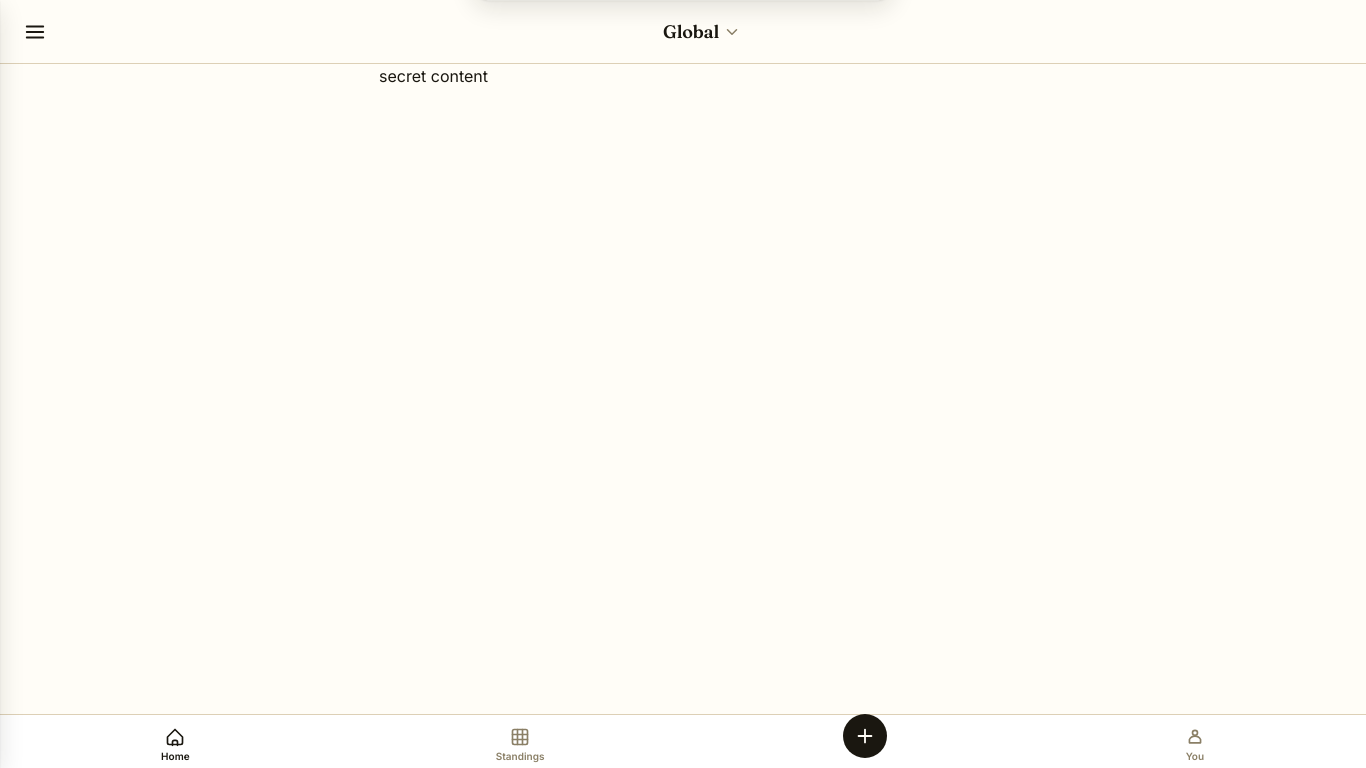
Scenario: AppShell › opens the ManageGroup overlay from the overflow menu when an admin group is selected
The image size is (1366, 768).
Expected: the text "secret content" is shown, [379,66,488,86]
Note: Select the admin group from the board switcher.
Click the button "Global": coordinates (702, 32) [655,12,749,51]
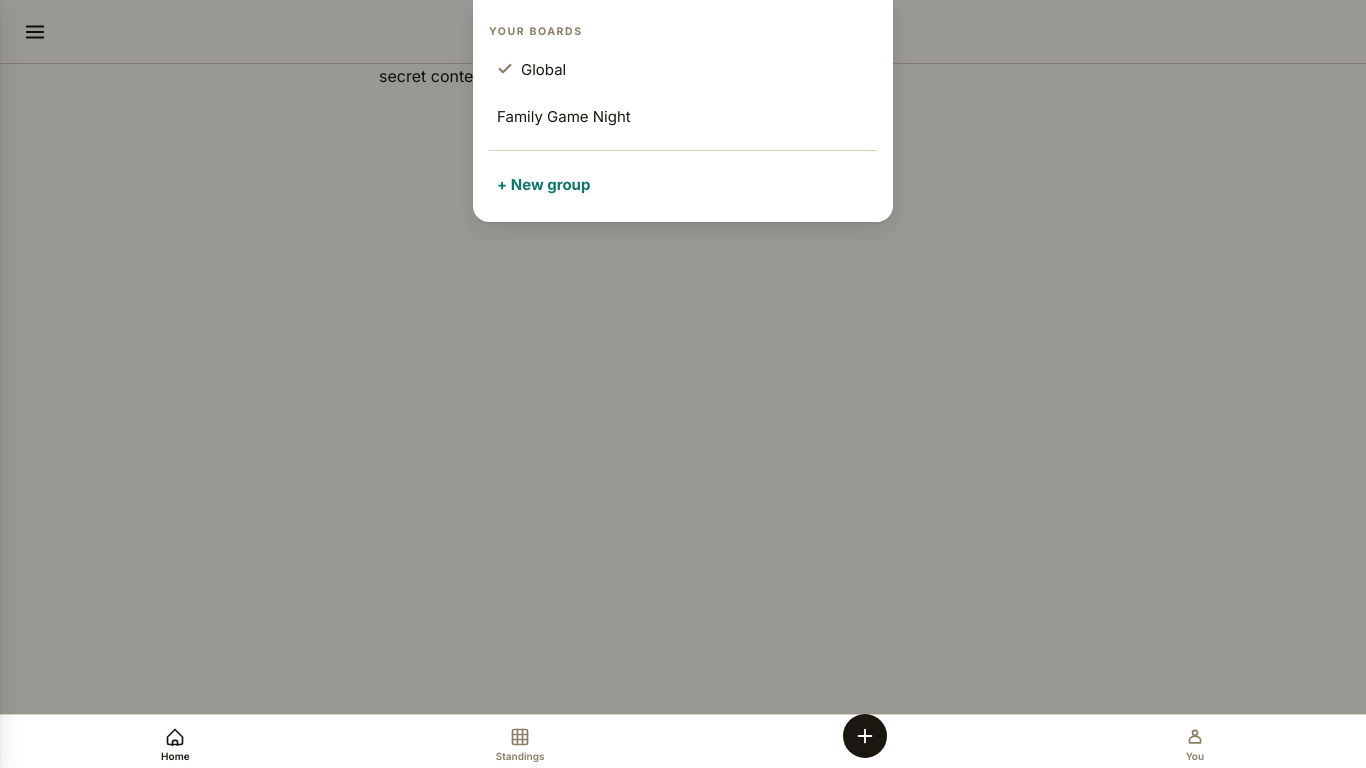
Click the button "Family Game Night": coordinates (564, 116) [489,95,877,138]
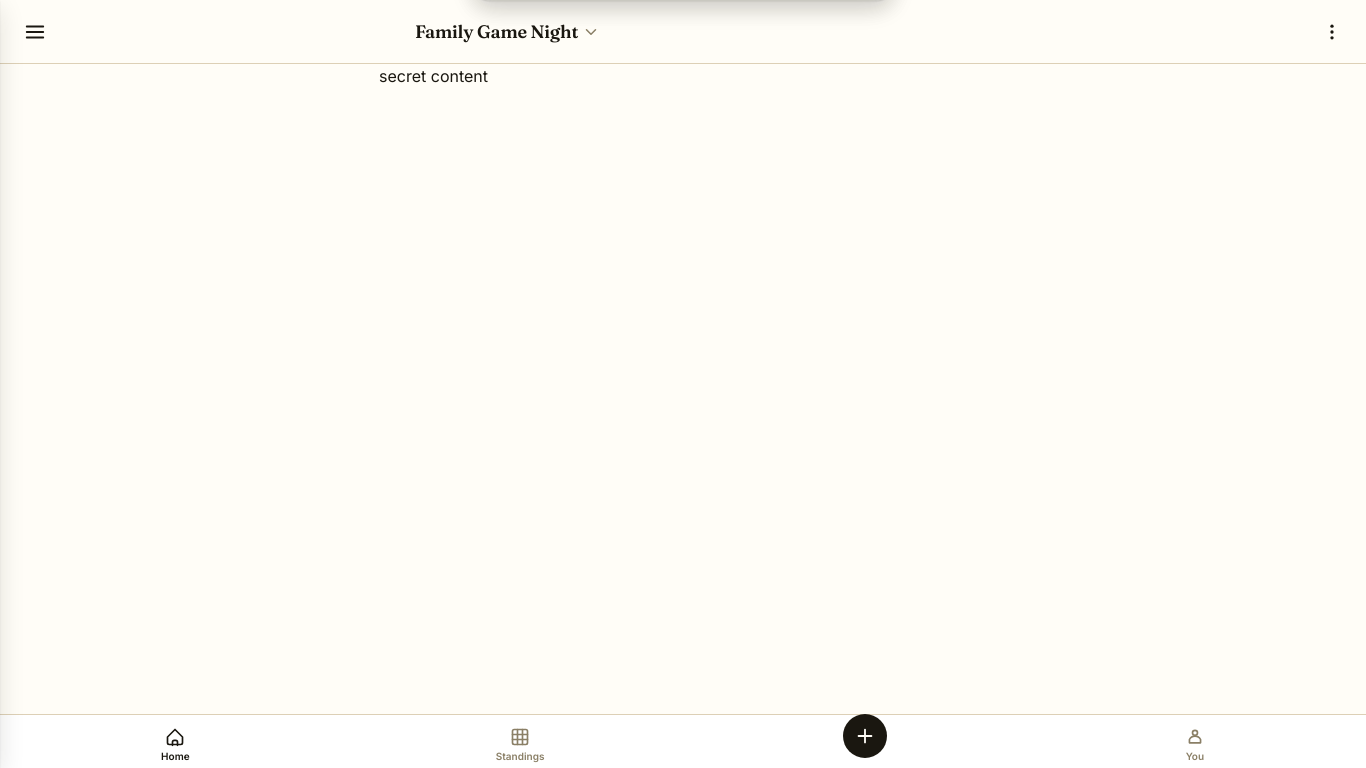
Expected: the button "Family Game Night" is shown, [407,12,608,51]
Note: Open the overflow menu and choose Manage.
Click the button named "group options": coordinates (1332, 32) [1314,14,1350,50]
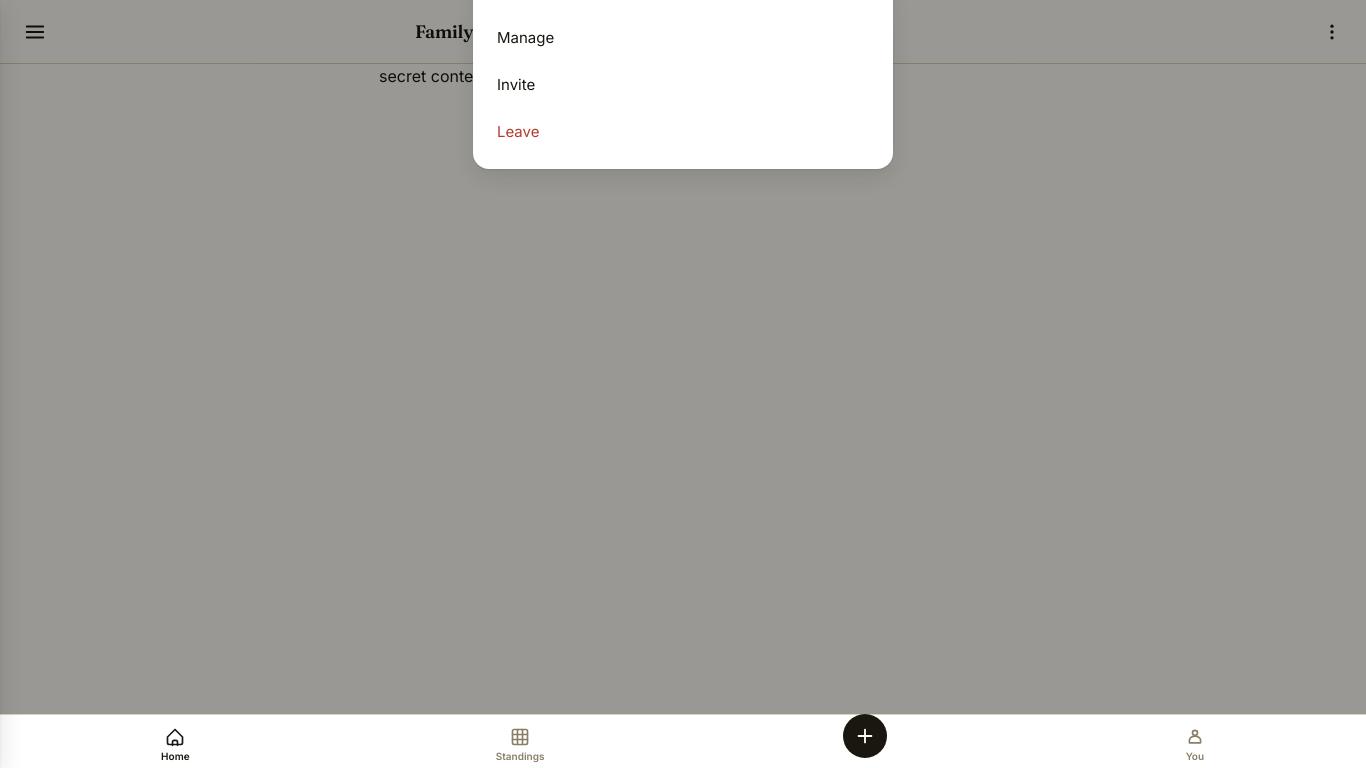
Click the button "Manage": coordinates (526, 38) [489,16,877,59]
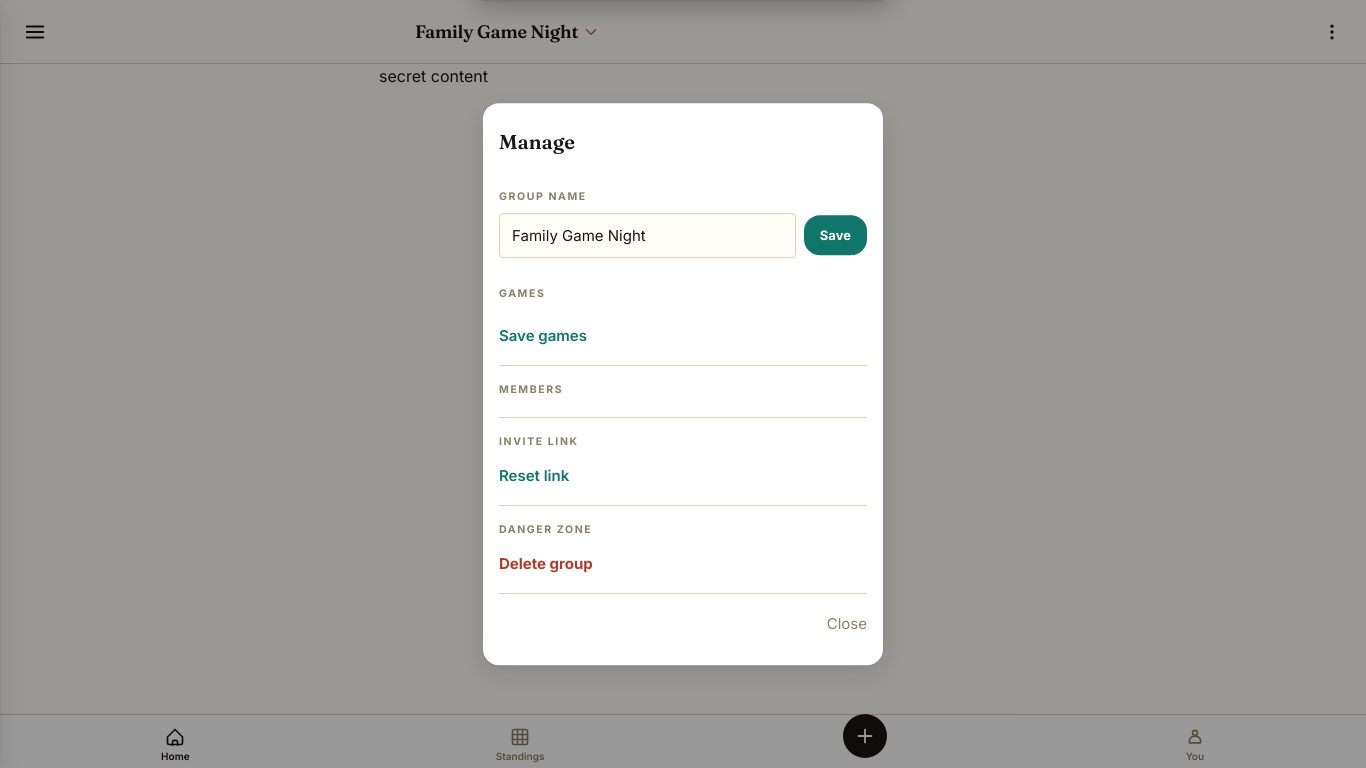
Expected: the element with test id "manage-group-backdrop" is shown
